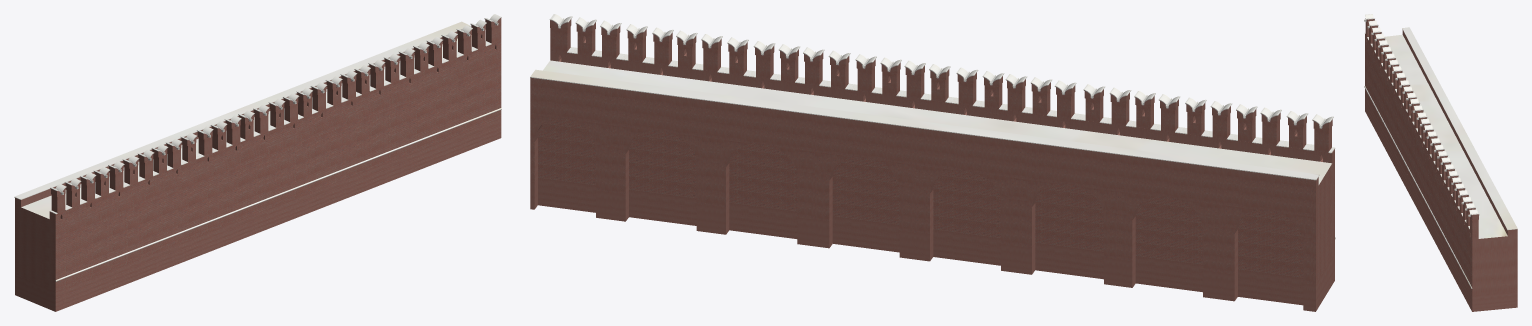
File: 01080_Kremlyovskaya_stena_3.FBX
The picture shows the model from 3 angles, left to right: view 1: azimuth 30°, elevation 25°; view 2: azimuth 150°, elevation 25°; view 3: azimuth 270°, elevation 25°; orthographic projection. The views are drawn at different scales.
Parts seen in each view (by area): view 1: Group_218, Group_223, Group_222, Group_224, Group_225, Group_219; view 2: Group_220, Group_221, Group_223, Group_225, Group_219, Group_222, Group_218; view 3: Group_218, Group_225, Group_223, Group_222, Group_219, Group_224, Group_125.
Boxes of the visible parts, x1,y1,x2,y2 form: Group_218: [15, 40, 501, 291]; Group_223: [15, 118, 501, 311]; Group_222: [14, 21, 470, 199]; Group_224: [55, 108, 501, 281]; Group_225: [21, 35, 471, 218]; Group_219: [21, 31, 457, 206]; Group_220: [530, 77, 1315, 284]; Group_221: [534, 117, 1303, 278]; Group_223: [530, 178, 1334, 311]; Group_225: [543, 60, 1331, 184]; Group_219: [550, 50, 1332, 163]; Group_222: [530, 69, 1319, 180]; Group_218: [534, 55, 1334, 283]; Group_218: [1365, 34, 1517, 295]; Group_225: [1384, 34, 1507, 238]; Group_223: [1365, 96, 1517, 311]; Group_222: [1402, 27, 1517, 230]; Group_219: [1402, 30, 1507, 235]; Group_224: [1364, 86, 1472, 288]; Group_125: [1470, 217, 1478, 233].
Bounding box in the file's own units: 55.05 × 12.1 × 17.38.
Materials: 7 (7 with a texture image).
